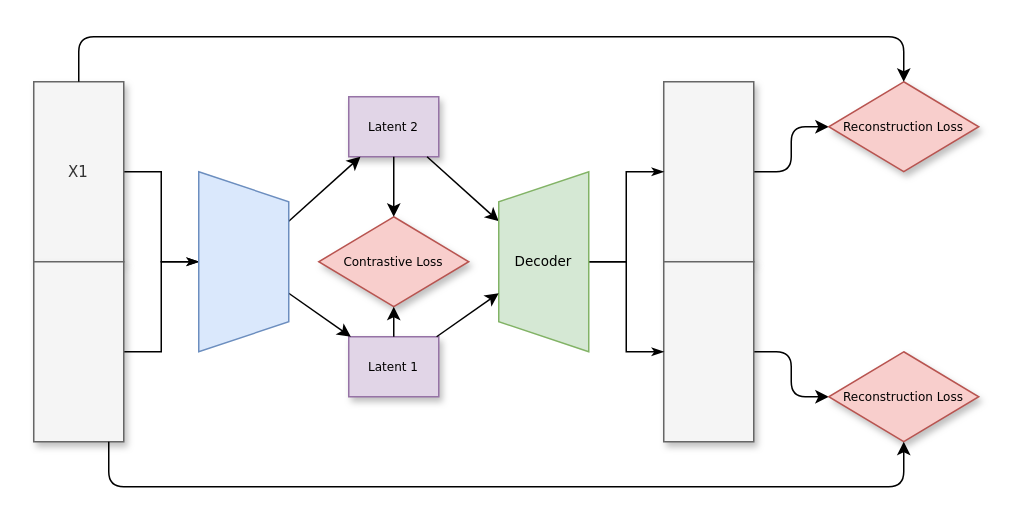
This 1014x525 diagram has some shape labels left out. Each missing label, with the centre of its shape:
"Encoder" goes at point (243, 261).
"X1 Recon" goes at point (710, 173).
"X2" goes at point (80, 353).
"X2 Recon" goes at point (710, 353).
